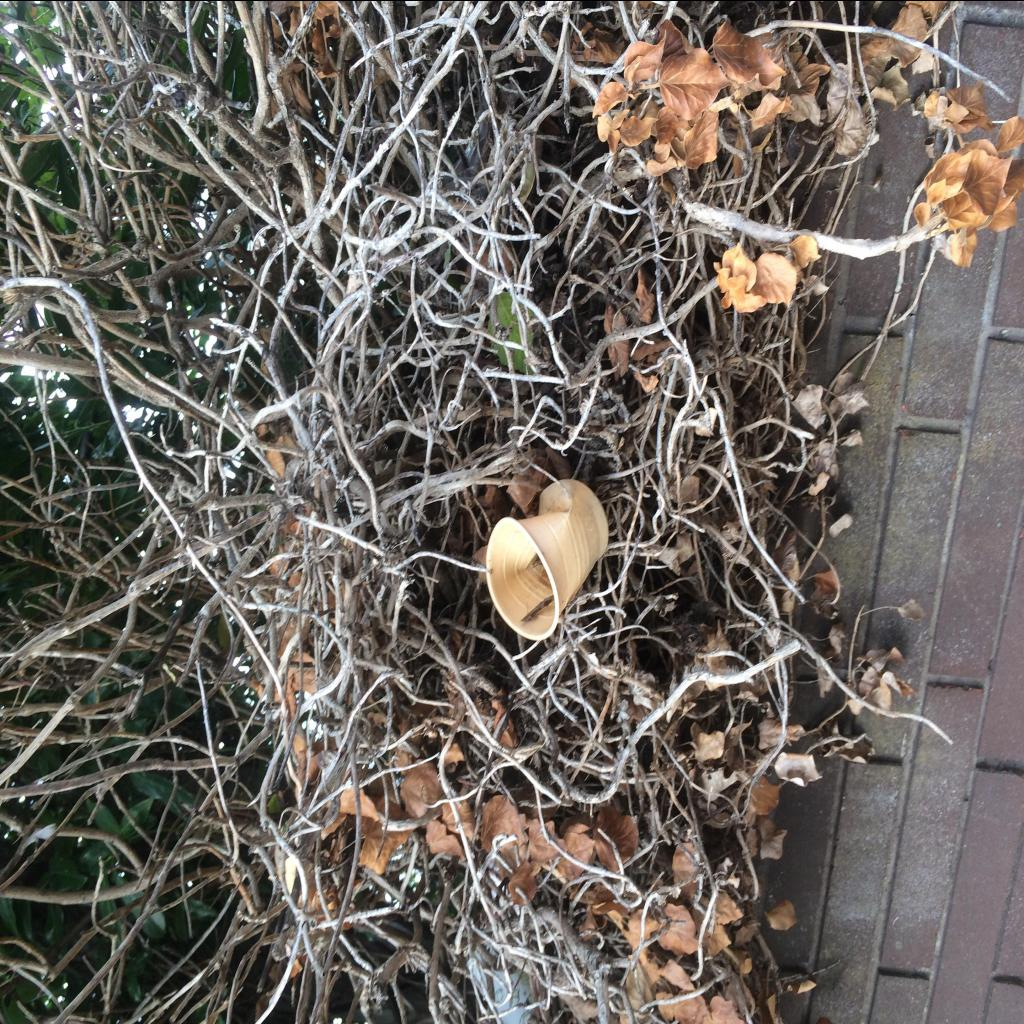Disposable plastic cup: (486, 478, 608, 640)
